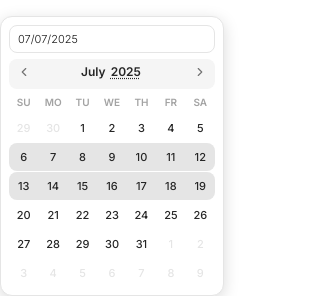
it: CalendarDatePicker › navigates to the next month
This screenshot has width=320, height=296.
(page scrolled)
Expected: the text "July" is shown, [81,64,106,79]
What coordinates should you click on to do the following:
click the button named "Next month"
I would click on:
 (200, 72)
Its box is [189,61,211,83].
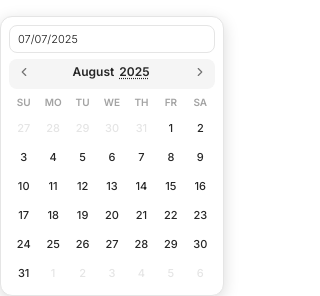
Now the text "August" is shown, box [72,64,114,79]
